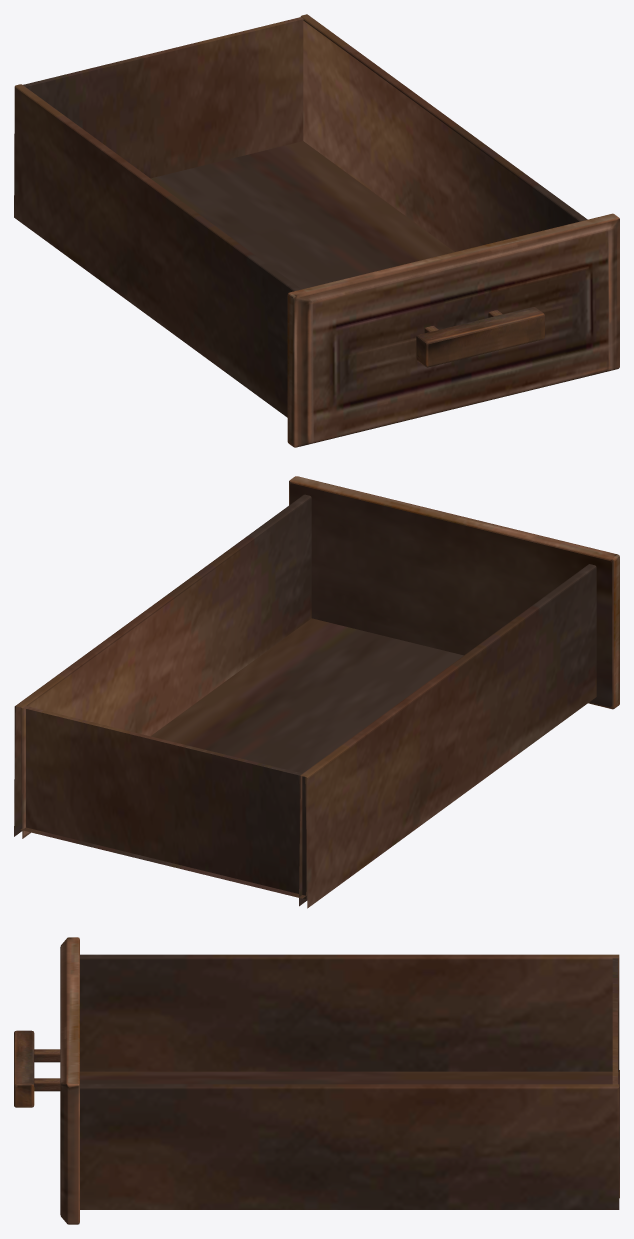
Rendered from table_drawer1.FBX.
The picture shows the model from 3 angles, top to bottom: view 1: azimuth 30°, elevation 25°; view 2: azimuth 150°, elevation 25°; view 3: azimuth 270°, elevation 25°; orthographic projection. The views are drawn at different scales.
Visible parts, largest first — view 1: table_drawer1; view 2: table_drawer1; view 3: table_drawer1.
Boxes of the visible parts, bbox=[...] form: table_drawer1: bbox=[14, 14, 619, 447]; table_drawer1: bbox=[14, 476, 619, 908]; table_drawer1: bbox=[14, 937, 619, 1224].
Bounding box in the file's own units: 50.74 × 22.41 × 87.72.
Materials: 1 (1 with a texture image).
